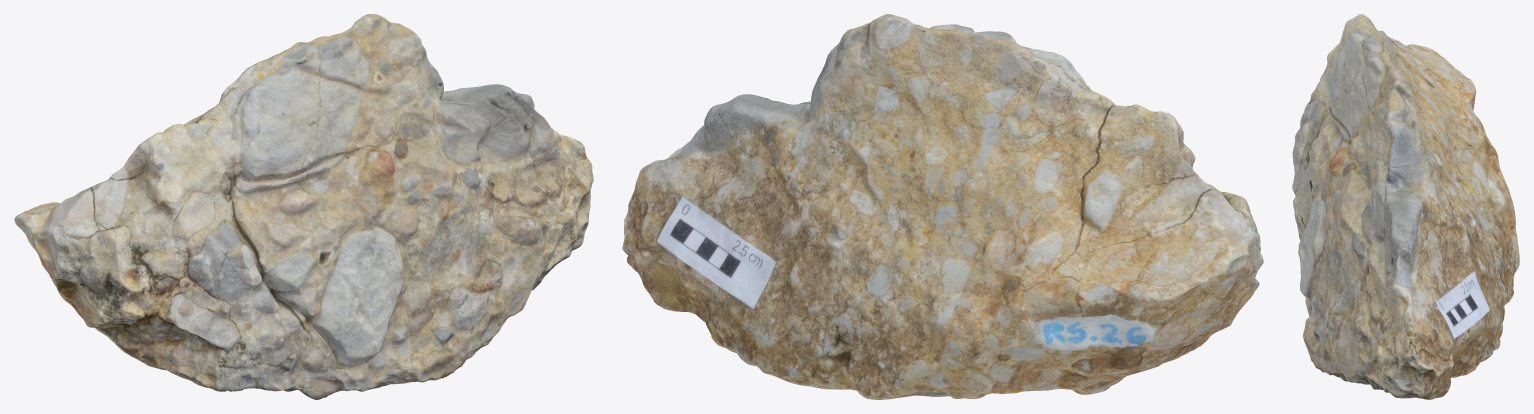
The model's file is breccia.glb.
The picture shows the model from 3 angles, left to right: view 1: azimuth 30°, elevation 25°; view 2: azimuth 150°, elevation 25°; view 3: azimuth 270°, elevation 25°; orthographic projection. The views are drawn at different scales.
Parts seen in each view (by area): view 1: Object_2; view 2: Object_2; view 3: Object_2.
Part boxes in pixels (x1=…): Object_2: x1=14, y1=14, x2=593, y2=399; Object_2: x1=622, y1=14, x2=1263, y2=399; Object_2: x1=1292, y1=14, x2=1519, y2=399.
Bounding box in the file's own units: 0.12 × 0.0676 × 0.0491.
Materials: 1 (1 with a texture image).
